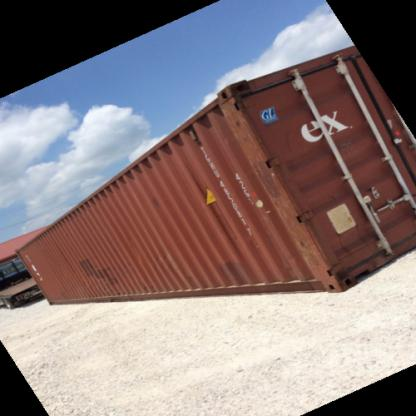Damage: (224, 92, 279, 189), (274, 183, 322, 280)
